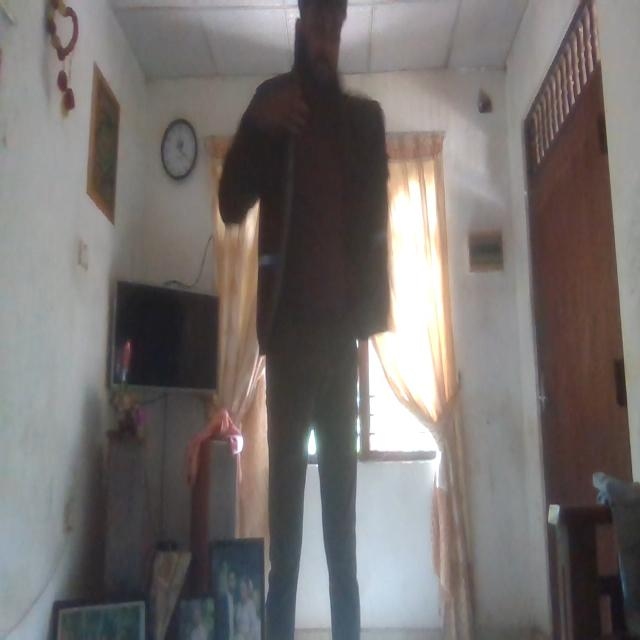Jacket_Wearer: (222, 66, 404, 362)
Person: (218, 0, 408, 640)
